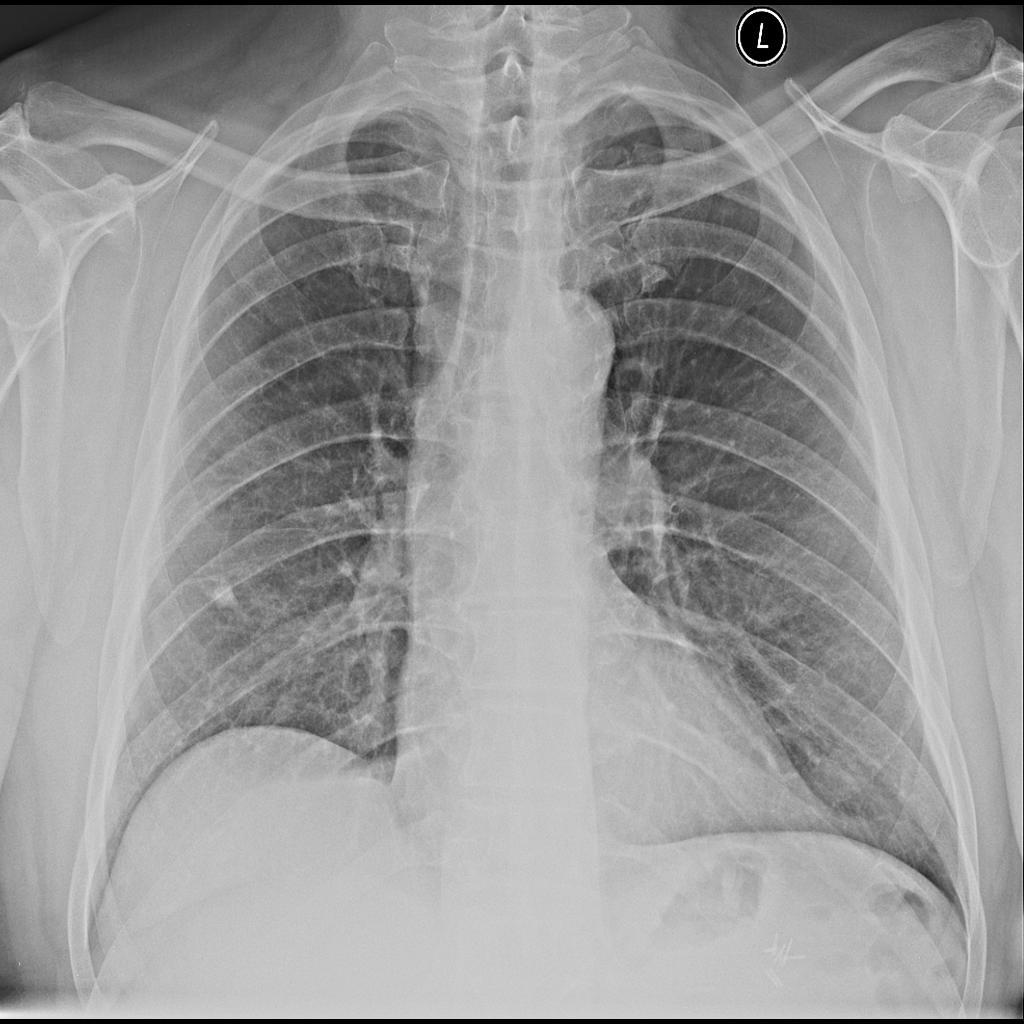Nodule: (201, 573, 241, 619)
